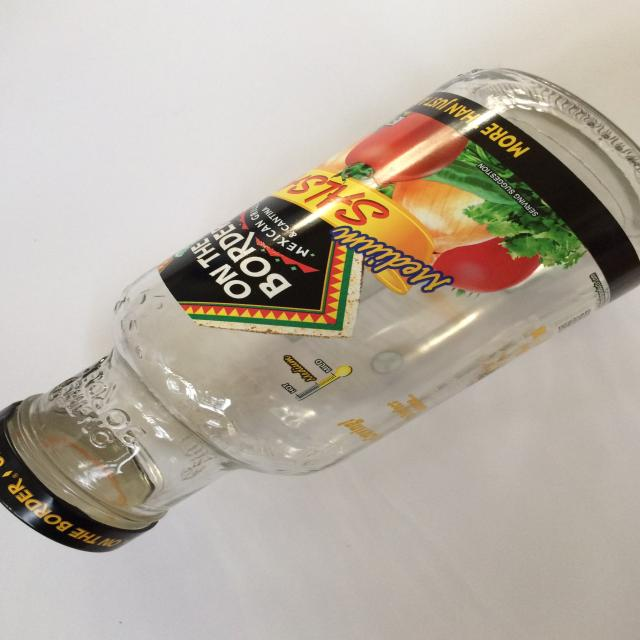glass: (0, 66, 640, 553)
